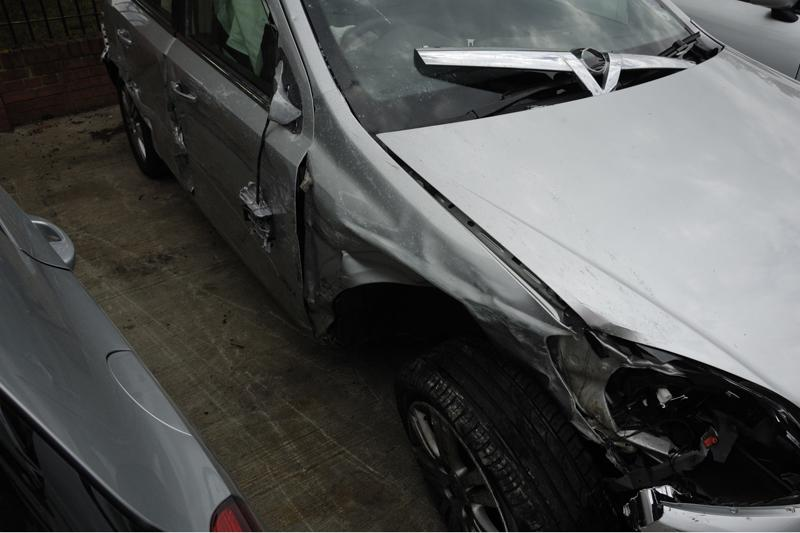fender-dent: (314, 142, 588, 387)
